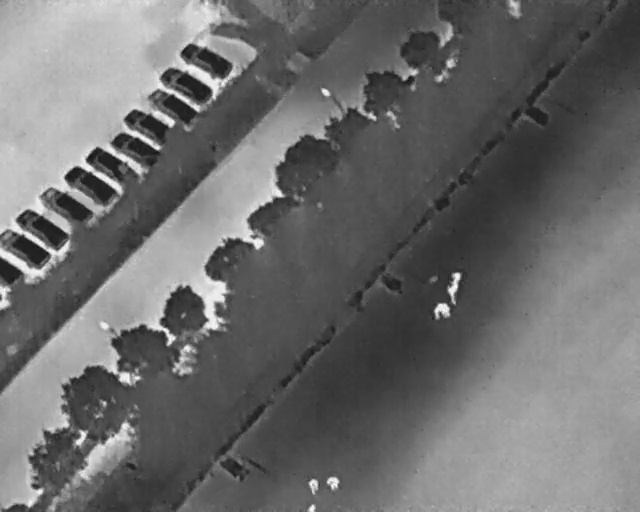Car: (10, 199, 75, 259), (34, 178, 99, 235), (80, 139, 145, 196), (58, 158, 122, 215), (142, 78, 203, 133), (106, 123, 168, 177), (154, 60, 217, 113), (175, 35, 238, 87), (118, 101, 178, 152), (0, 228, 51, 270), (0, 253, 27, 291)
Person: (446, 282, 460, 308), (437, 300, 453, 321), (307, 478, 320, 495), (326, 477, 340, 491), (452, 271, 462, 286), (433, 306, 441, 323), (307, 502, 318, 511)
